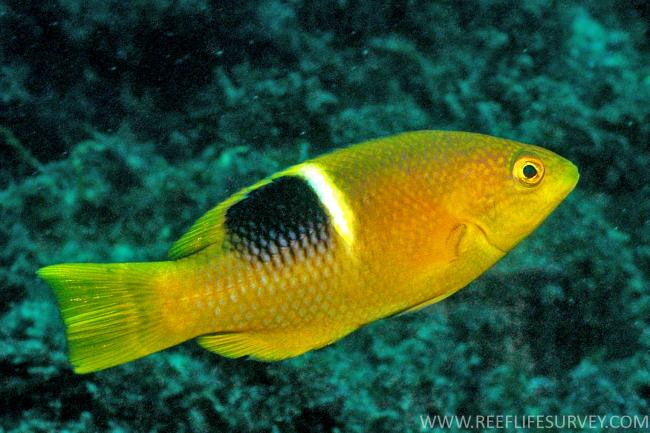fish: (38, 129, 580, 373)
